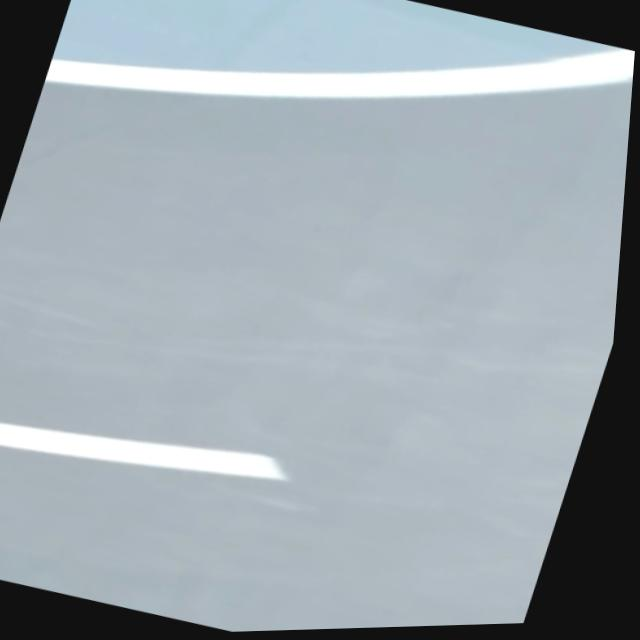center: (0, 421, 286, 479)
left: (44, 48, 635, 96)
